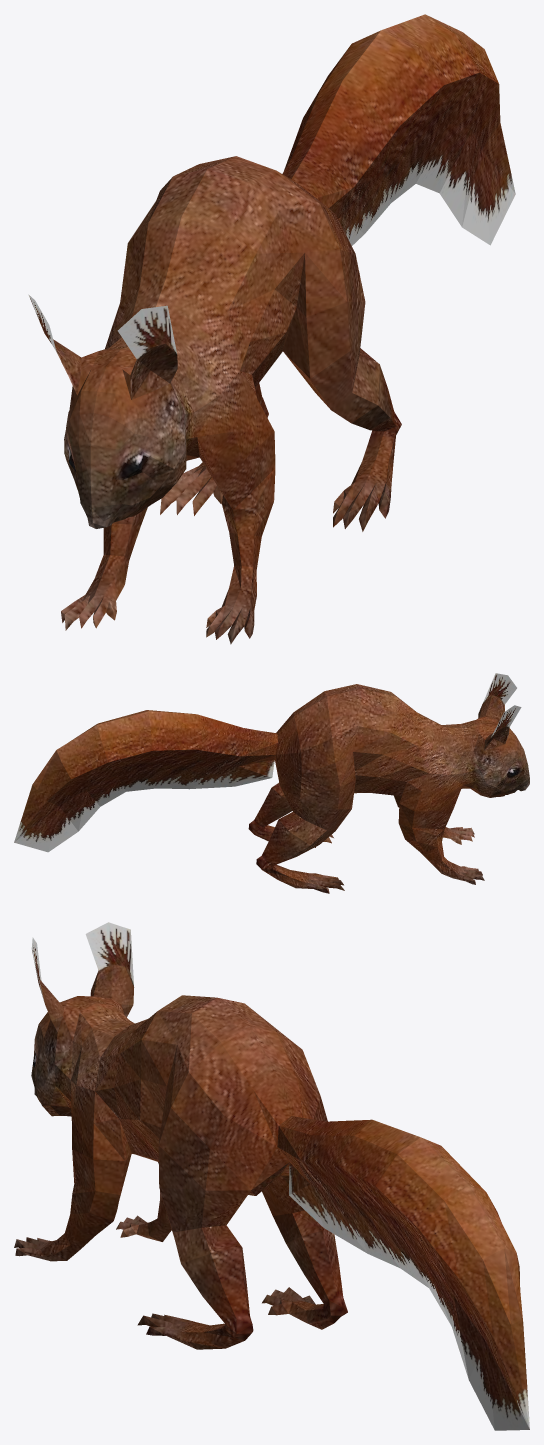
File: eekhoorn5.obj
The picture shows the model from 3 angles, top to bottom: view 1: azimuth 30°, elevation 25°; view 2: azimuth 150°, elevation 25°; view 3: azimuth 270°, elevation 25°; orthographic projection. The views are drawn at different scales.
Parts seen in each view (by area): view 1: SquirrelRed_Adult_F; view 2: SquirrelRed_Adult_F; view 3: SquirrelRed_Adult_F.
Boxes of the visible parts, bbox=[...] form: SquirrelRed_Adult_F: bbox=[28, 14, 515, 644]; SquirrelRed_Adult_F: bbox=[14, 673, 529, 893]; SquirrelRed_Adult_F: bbox=[14, 922, 529, 1430].
Bounding box in the file's own units: 937 × 457 × 698.
1 material, 1 textured.
